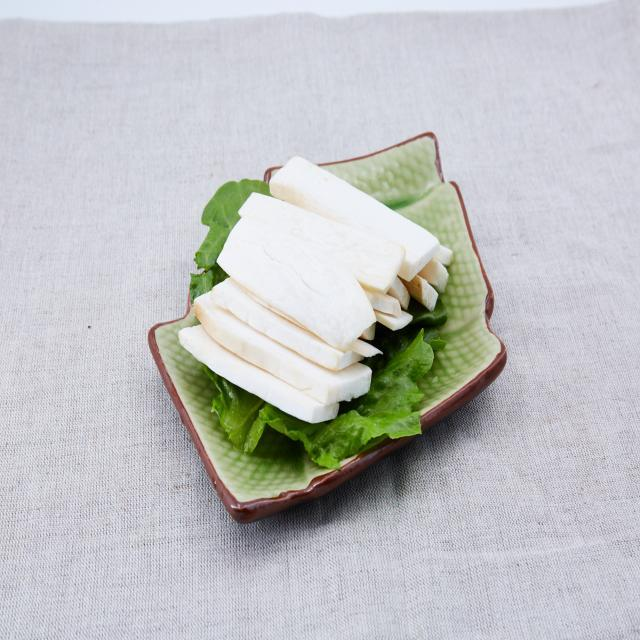Pleurotus eryngii: (181, 159, 454, 421)
